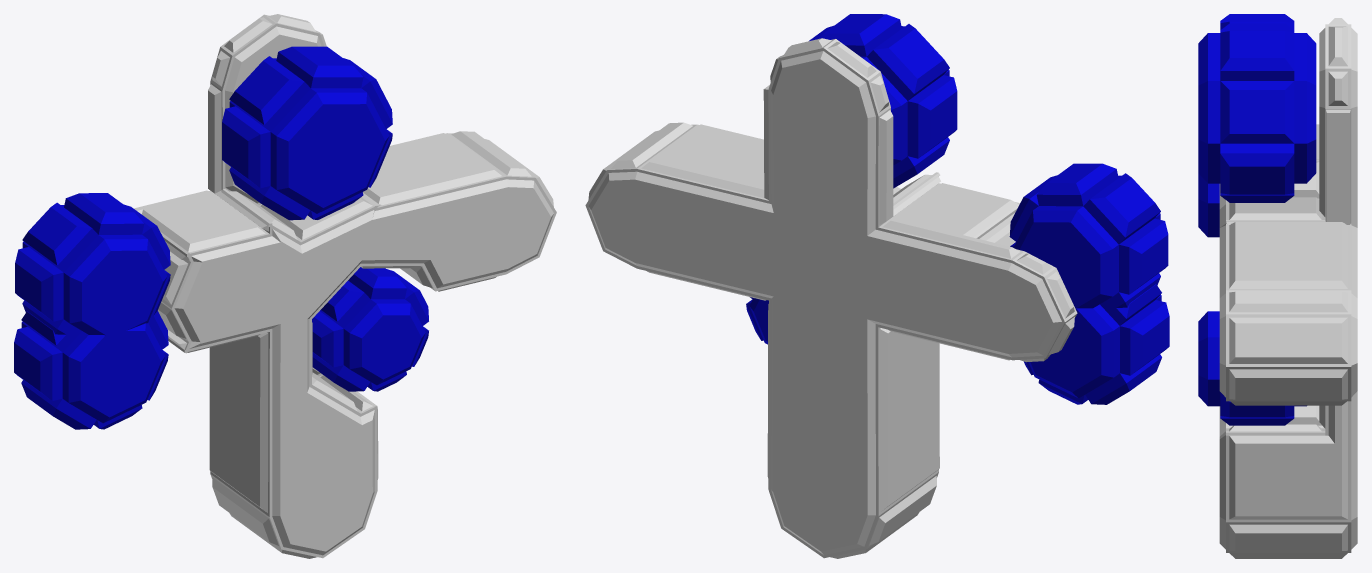
File: Ch_China_十_01.fbx
3 views of the same model, side by side, from view 1: azimuth 30°, elevation 25°; view 2: azimuth 150°, elevation 25°; view 3: azimuth 270°, elevation 25° (orthographic). The views are drawn at different scales.
Parts seen in each view (by area): view 1: sphere1; view 2: sphere1; view 3: sphere1.
Part boxes in pixels (x1=…): sphere1: x1=14, y1=14, x2=556, y2=558; sphere1: x1=585, y1=14, x2=1169, y2=558; sphere1: x1=1198, y1=14, x2=1357, y2=558.
Bounding box in the file's own units: 1 × 0.9353 × 0.2541.
